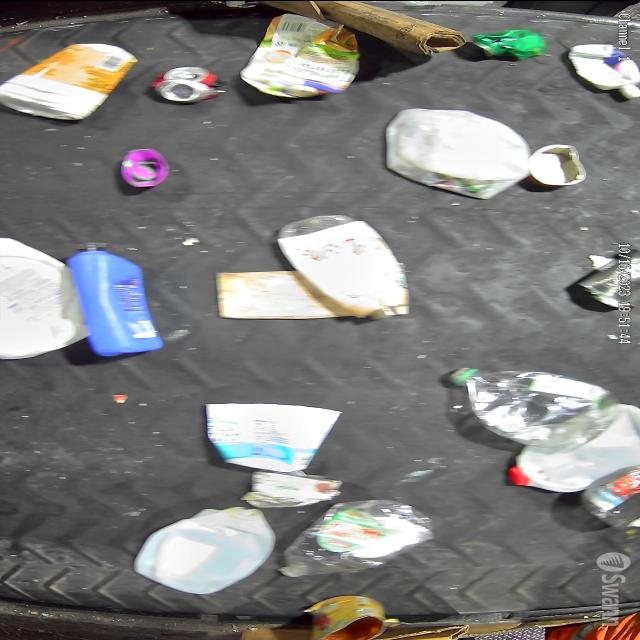can: (244, 464, 344, 508), (579, 246, 640, 316), (151, 61, 235, 108), (528, 137, 596, 187), (468, 28, 550, 64)
milk_jug: (378, 102, 530, 198), (138, 506, 276, 598), (0, 235, 90, 374), (508, 401, 640, 492)
non_white_jug: (68, 238, 164, 364)
plastic_bottle: (438, 366, 620, 452), (268, 499, 436, 583)
